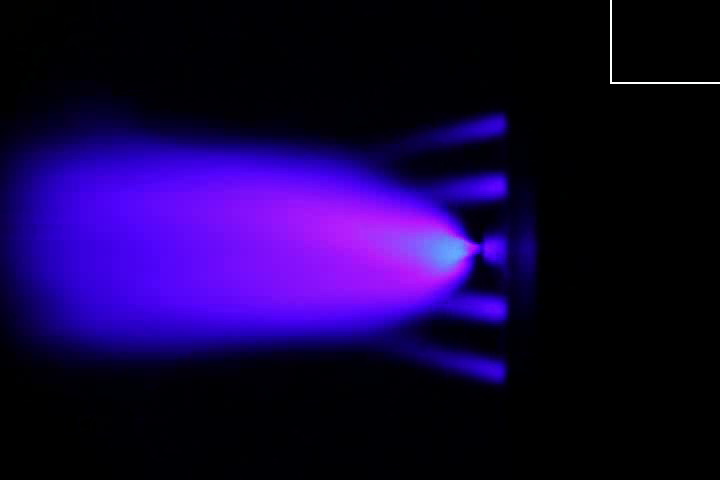burner cap: (479, 229, 513, 273)
pilot flame: (384, 340, 508, 384), (393, 105, 505, 151), (415, 173, 509, 203), (439, 291, 508, 323)
stable: (162, 174, 486, 297)
